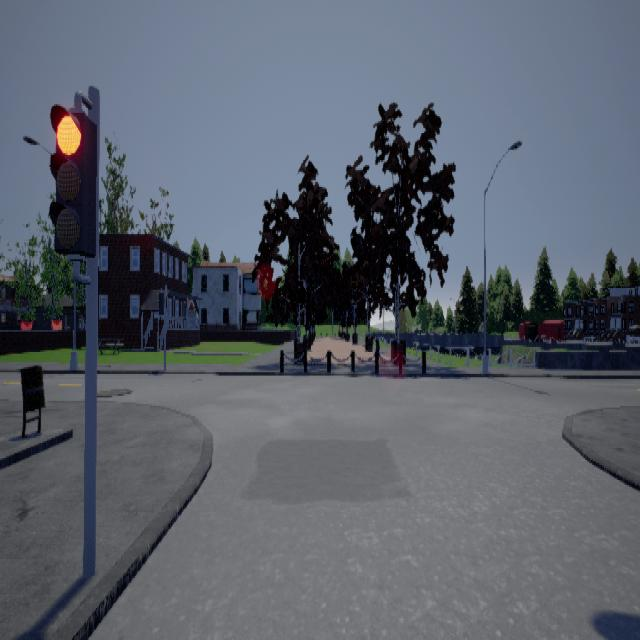red_light: (50, 89, 98, 283)
